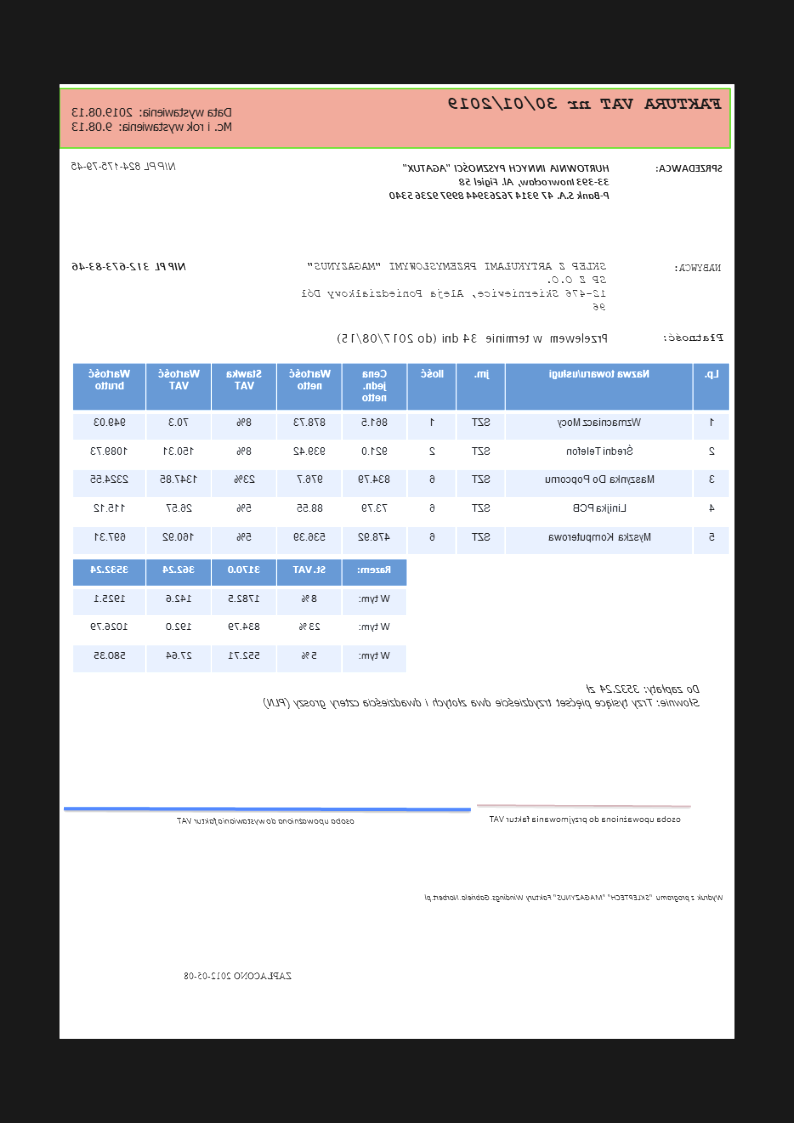Table: (71, 361, 731, 556), (71, 558, 408, 673), (262, 681, 702, 712)
TextBox: (298, 258, 610, 314), (388, 162, 612, 202), (447, 93, 724, 114), (70, 104, 236, 134), (336, 331, 610, 346), (422, 891, 726, 904), (175, 815, 357, 827), (488, 814, 684, 825), (70, 259, 190, 274), (70, 159, 179, 173), (183, 969, 293, 981), (655, 162, 725, 175), (662, 330, 725, 344), (672, 261, 724, 273)
